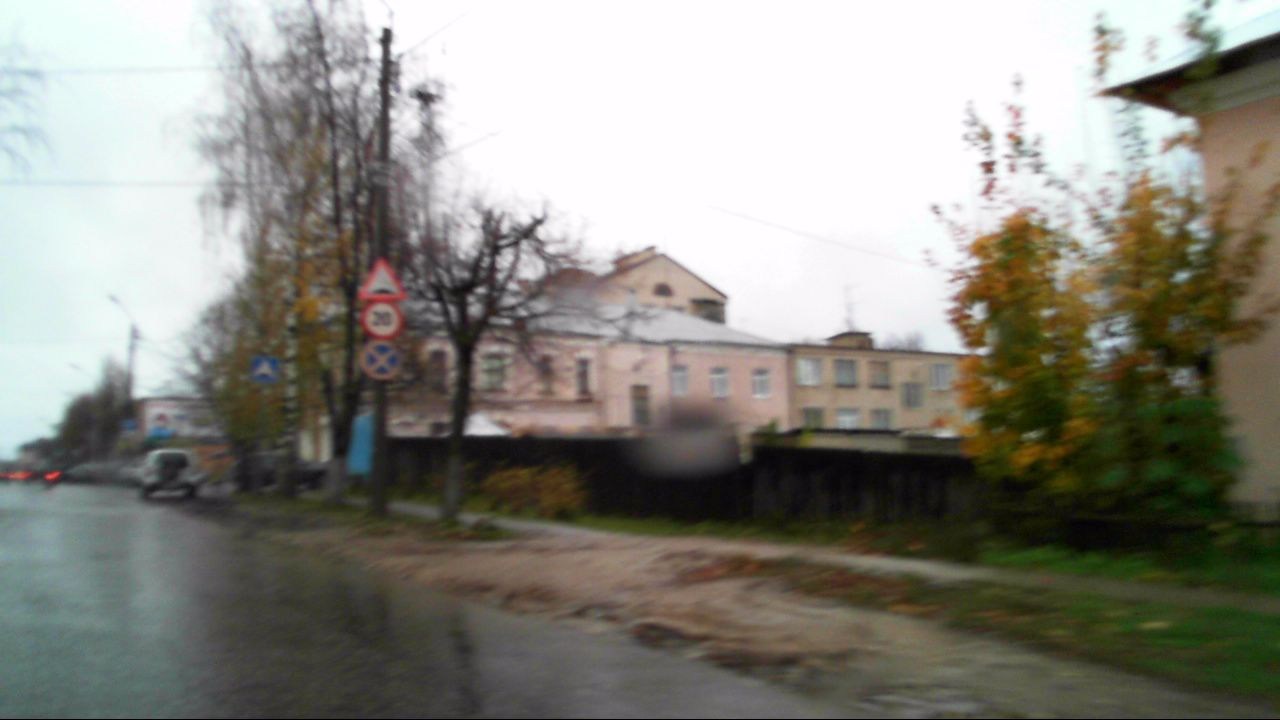No Parking: (359, 341, 402, 380)
